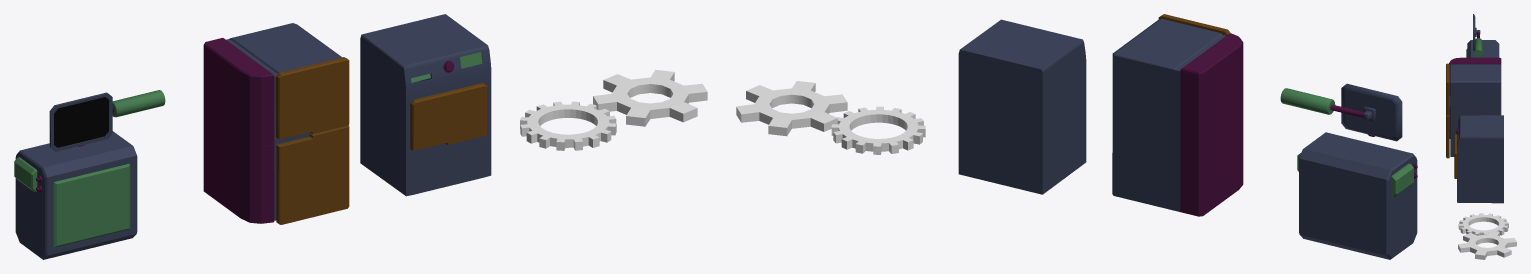
The model's file is Maquinas.fbx.
3 renders of one model, left to right at view 1: azimuth 30°, elevation 25°; view 2: azimuth 150°, elevation 25°; view 3: azimuth 270°, elevation 25°, orthographic. The views are drawn at different scales.
Visible parts, largest first — view 1: Washing machine, Object001, Main, Main.002, Object004, Object002, Object003, Cylinder001, Pantalla, Cylinder; view 2: Object001, Washing machine, Main, Cylinder001, Pantalla, Cylinder, Object002; view 3: Washing machine, Object001, Cylinder001, Cylinder, Main, Pantalla, Object002, Main.002, Object003.
Boxes of the visible parts, box(x1,y1,x2,y2) form: Washing machine: box(360, 14, 491, 196); Object001: box(203, 23, 341, 223); Main: box(14, 131, 137, 259); Main.002: box(276, 125, 349, 224); Object004: box(53, 163, 130, 247); Object002: box(276, 57, 349, 139); Object003: box(410, 83, 487, 150); Cylinder001: box(593, 69, 707, 126); Pantalla: box(49, 90, 165, 151); Cylinder: box(520, 101, 616, 150); Object001: box(1112, 18, 1243, 216); Washing machine: box(958, 19, 1086, 194); Main: box(1297, 132, 1417, 259); Cylinder001: box(736, 81, 847, 136); Pantalla: box(1280, 83, 1402, 141); Cylinder: box(831, 106, 925, 154); Object002: box(1158, 14, 1230, 35); Washing machine: box(1456, 115, 1503, 203); Object001: box(1449, 57, 1501, 156); Cylinder001: box(1458, 230, 1516, 259); Cylinder: box(1458, 213, 1508, 235); Main: box(1467, 40, 1499, 57); Pantalla: box(1473, 14, 1482, 57); Object002: box(1446, 63, 1449, 115); Main.002: box(1446, 115, 1449, 158); Object003: box(1454, 134, 1456, 178).
Size of the model in its own units: 183 by 41.75 by 32.07.
